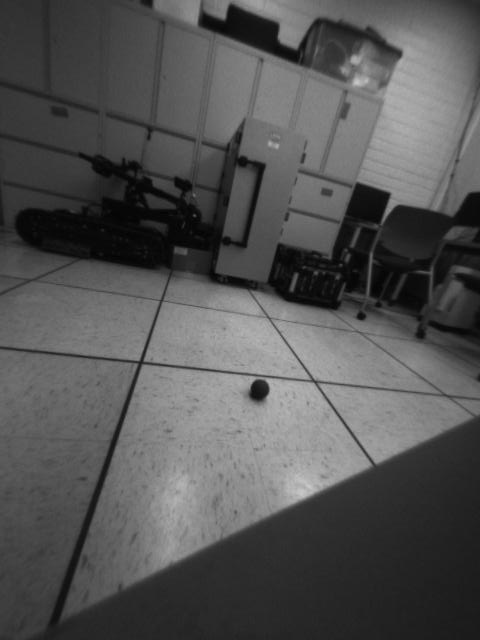dogtoy: (243, 369, 275, 404)
